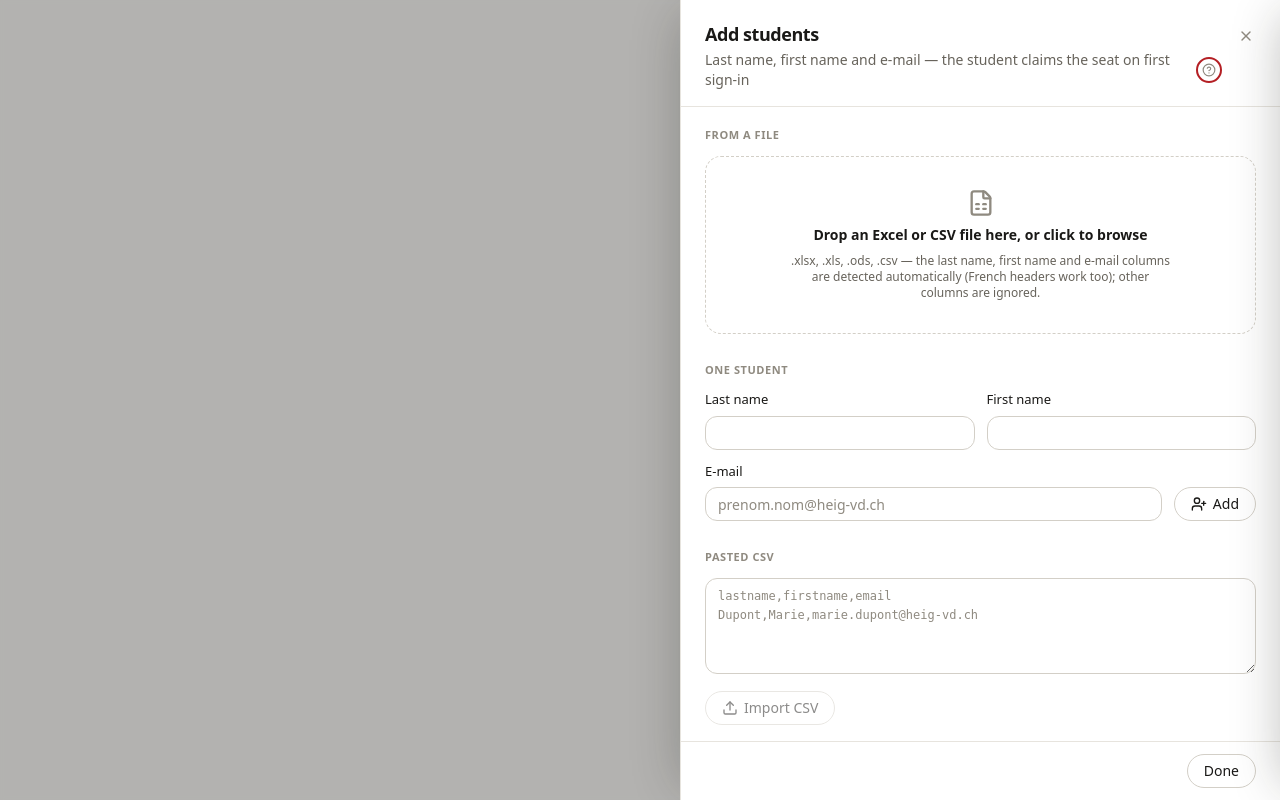
it: RosterImport rejected lines › says the import is done when it went through
The width and height of the screenshot is (1280, 800).
Type "Dupont,Marie,marie@heig-vd.ch" into the text box named "Roster CSV" at {"x": 980, "y": 626}, box [705,578,1256,674]
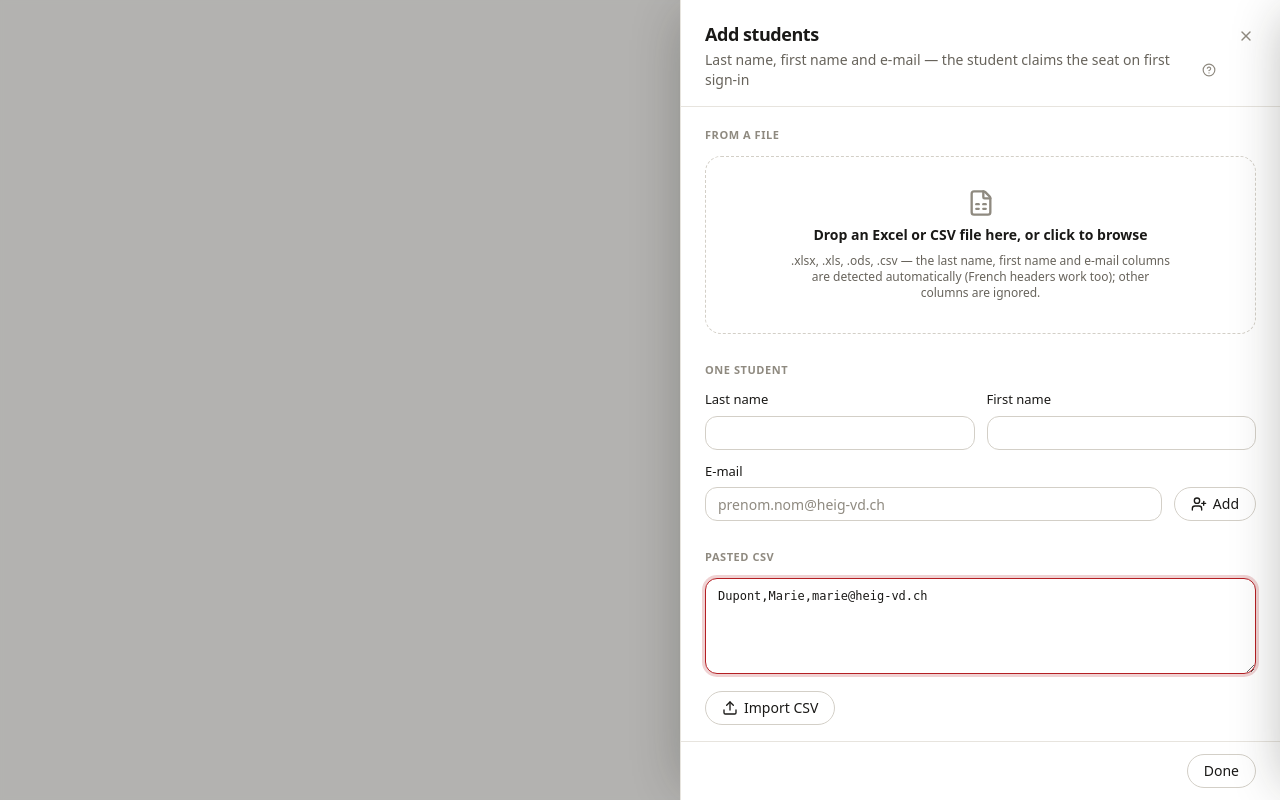
Click the button "Import CSV" at {"x": 770, "y": 708}, box [705,690,835,724]
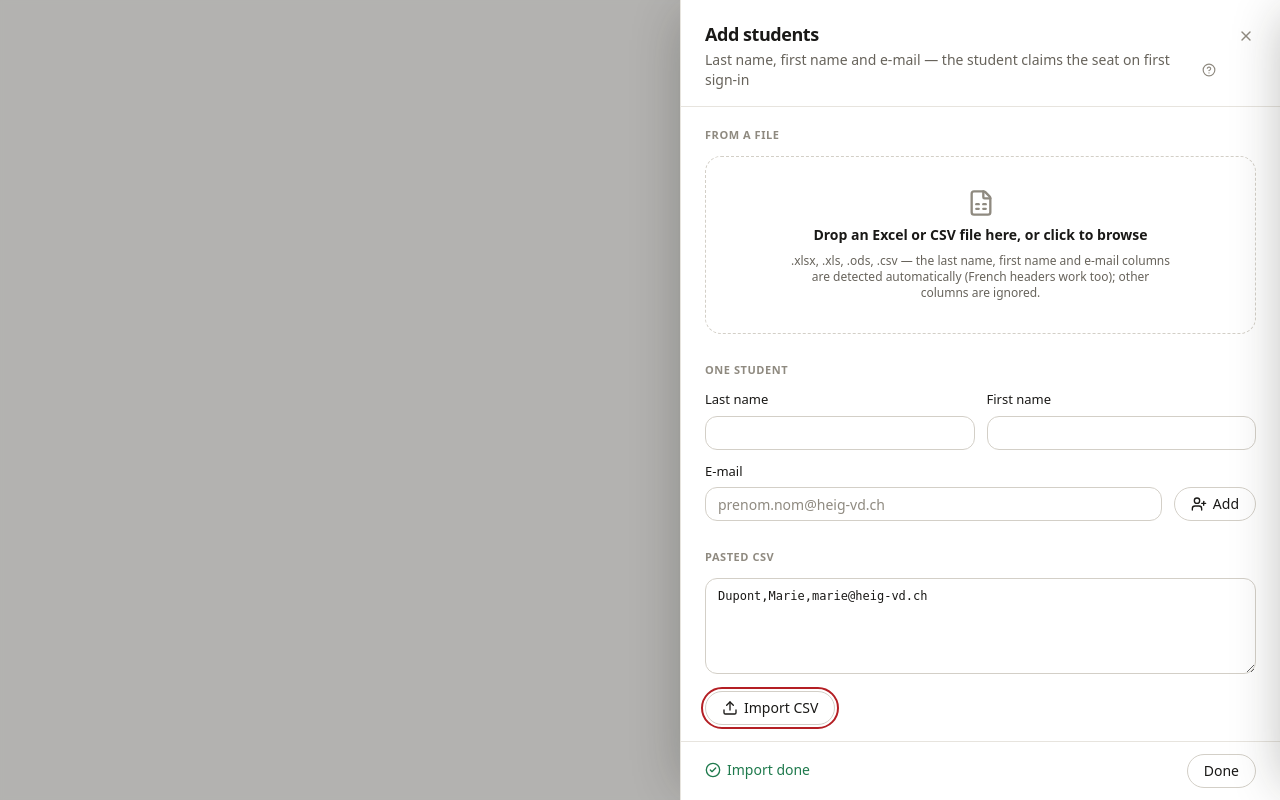
expect the text "Import done" is shown: met, box [705,760,810,780]
